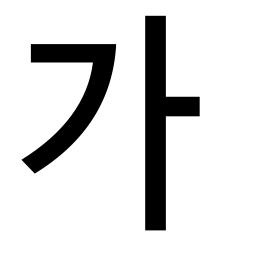Gaji: (131, 85, 188, 134)
